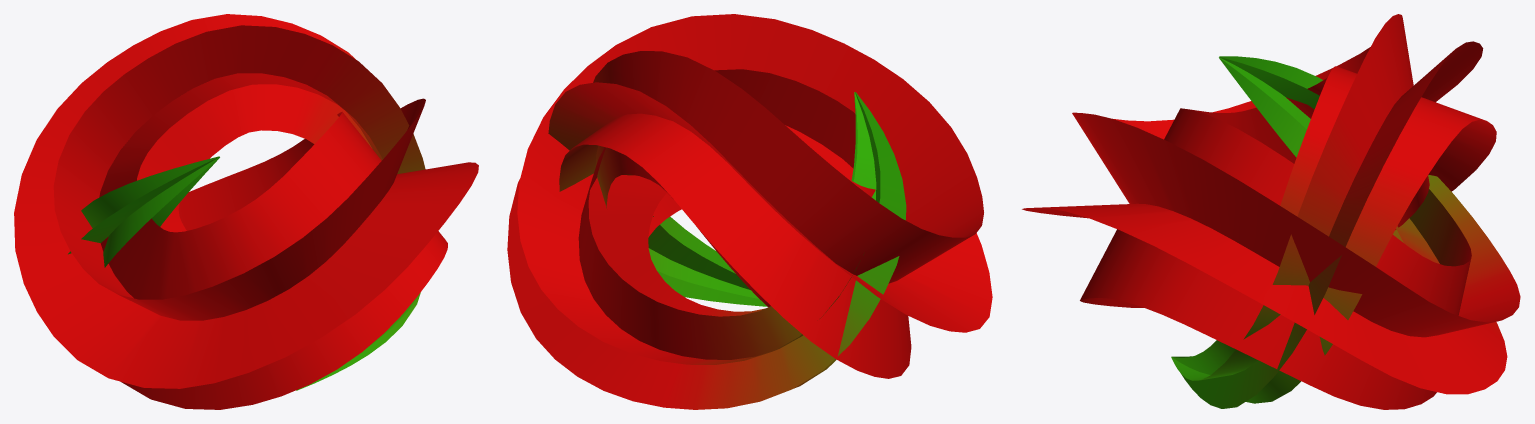
File: VFXCurveMesh02.fbx
3 renders of one model, left to right at view 1: azimuth 30°, elevation 25°; view 2: azimuth 150°, elevation 25°; view 3: azimuth 270°, elevation 25°, orthographic. The views are drawn at different scales.
Parts seen in each view (by area): view 1: VFXCurve02; view 2: VFXCurve02; view 3: VFXCurve02.
Boxes of the visible parts, <box> form: VFXCurve02: <box>14,14,478,409</box>; VFXCurve02: <box>507,14,992,409</box>; VFXCurve02: <box>1022,14,1520,409</box>.
Size of the model in its own units: 220 by 153 by 203.
